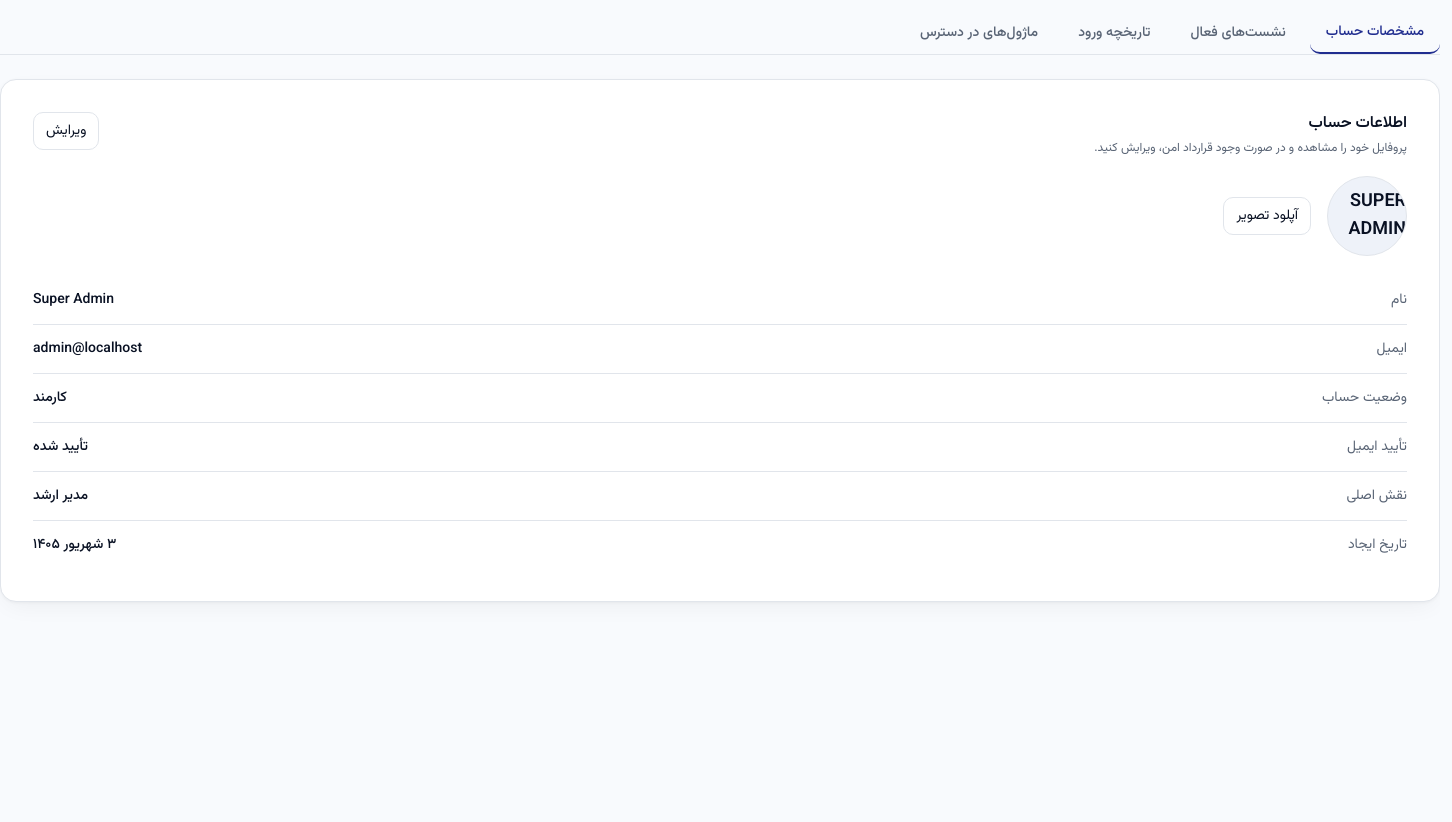
Scenario: CoreProfileView account tabs › phase 49C-4: the modules tab › does not offer a module the caller cannot open
The image size is (1452, 822).
Click the tab "ماژول‌های در دسترس". click: (979, 33)
box: [904,12,1054,54]
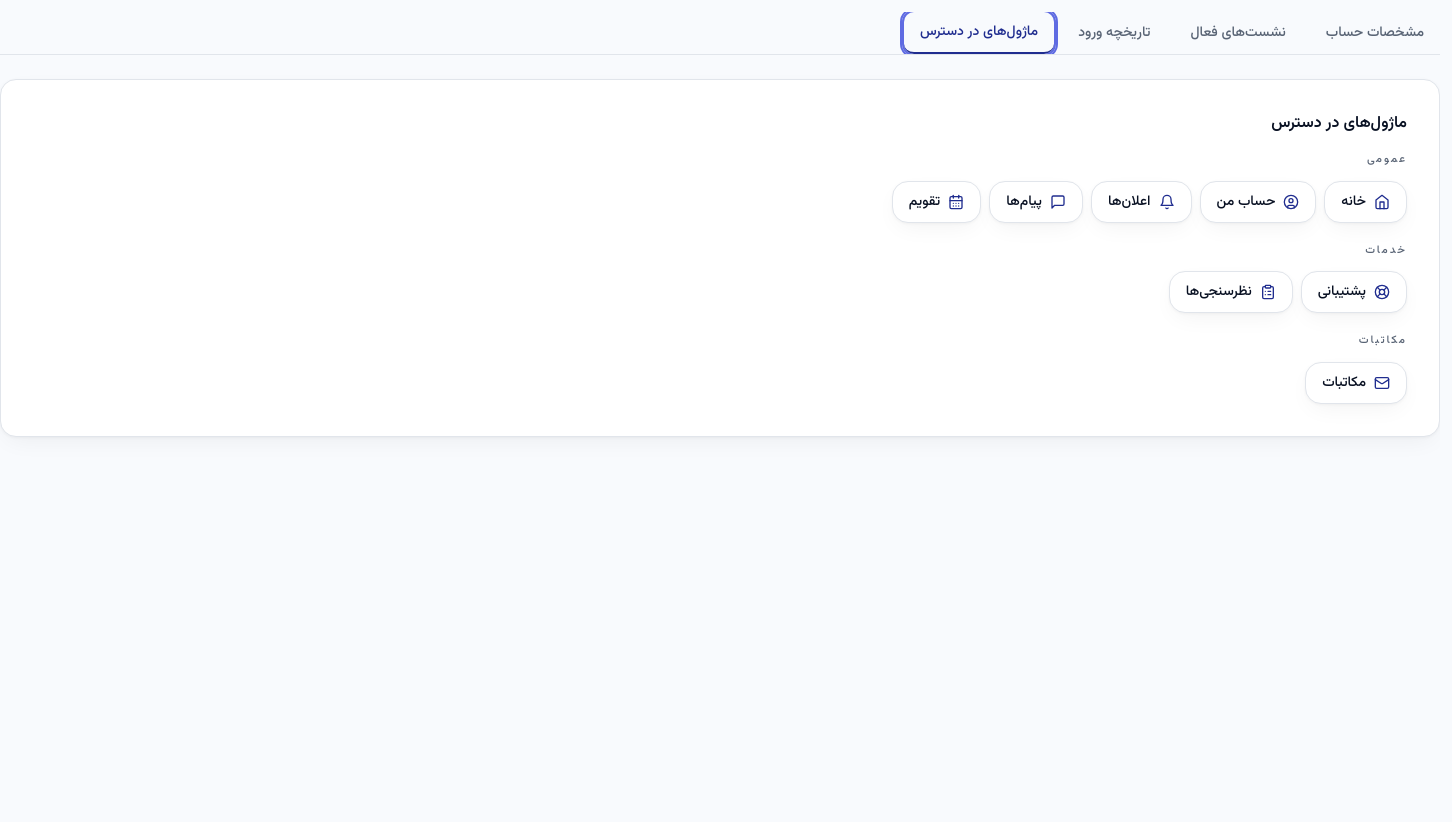
Expected: the element with test id "core-modules-list" is shown, [892,151,1407,404]
Expected: the link "حساب من" is shown, [1200,180,1316,222]
